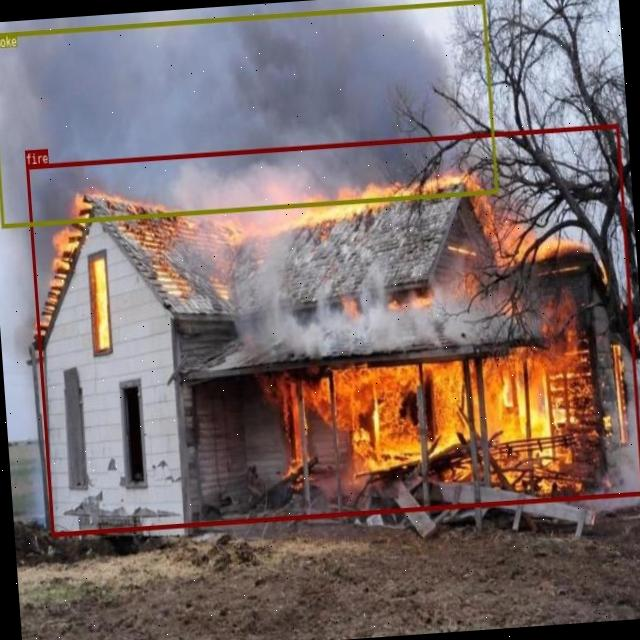fire: (24, 122, 640, 536)
smoke: (0, 0, 497, 228)
